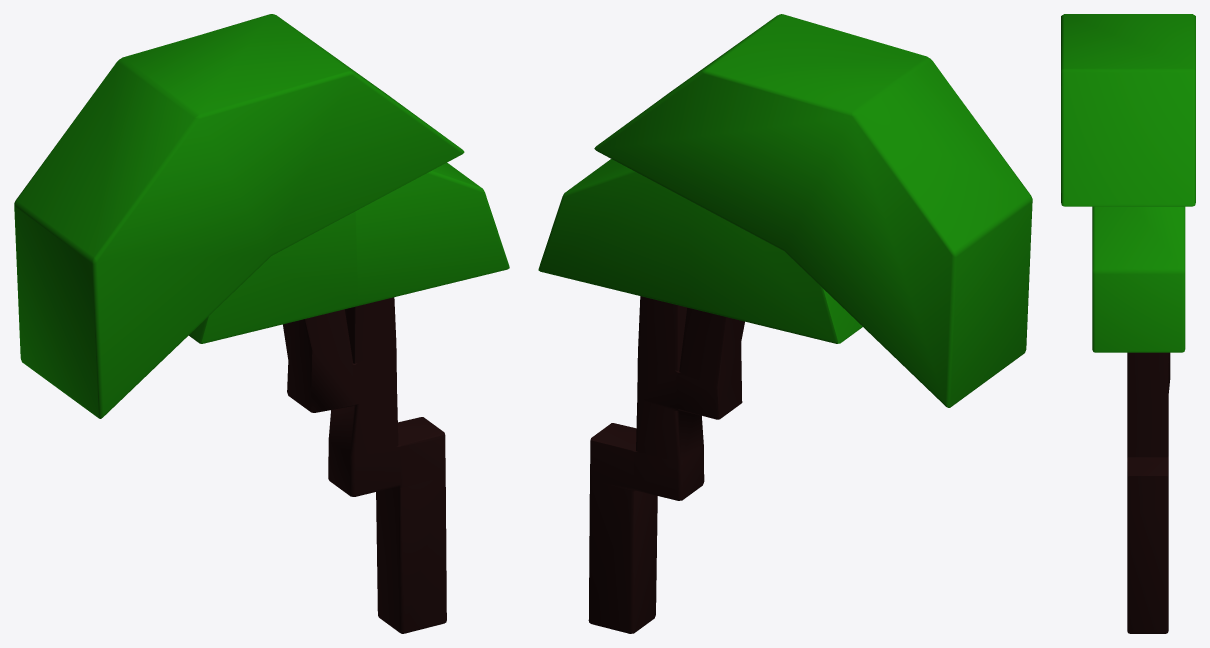
Rendered from tree2.FBX.
3 renders of one model, left to right at view 1: azimuth 30°, elevation 25°; view 2: azimuth 150°, elevation 25°; view 3: azimuth 270°, elevation 25°, orthographic. The views are drawn at different scales.
Visible parts, largest first — view 1: tree2; view 2: tree2; view 3: tree2.
Boxes of the visible parts, x1=… form: tree2: x1=14, y1=14, x2=509, y2=633; tree2: x1=538, y1=14, x2=1032, y2=633; tree2: x1=1061, y1=14, x2=1195, y2=633.
Bounding box in the file's own units: 123 × 166 × 39.79.
